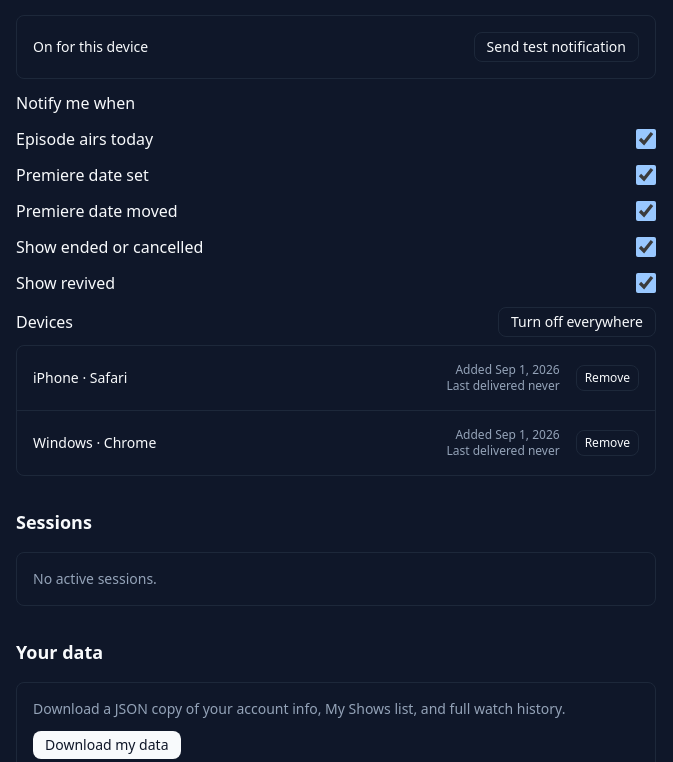
Test: Device list › unsubscribes locally too when removing this device
(page scrolled)
Click the button with aria-label "Remove iPhone · Safari".
click(607, 378)  # box [576, 365, 639, 391]
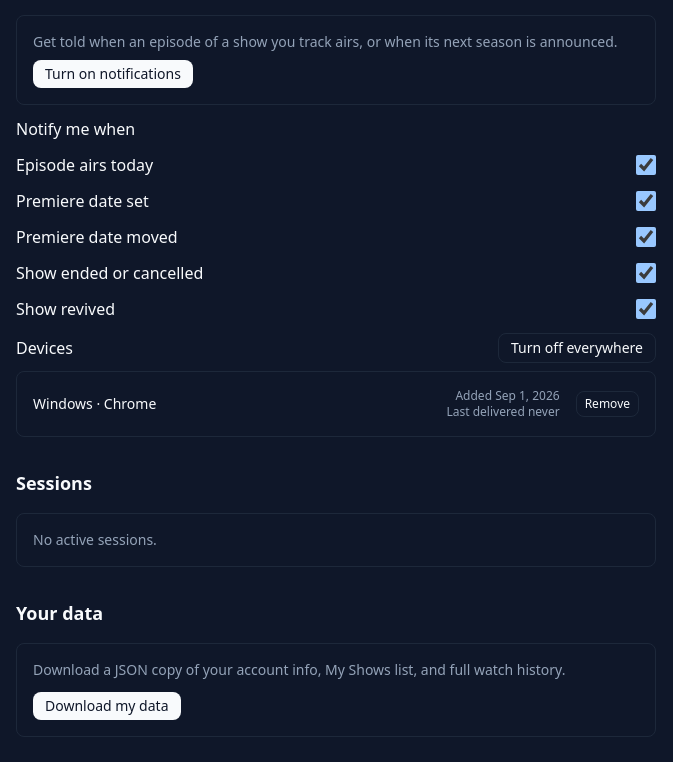
Expected: the text "Windows · Chrome" is shown, [33, 394, 156, 413]
Result: the button "Turn on notifications" is shown at [33, 60, 193, 88]
